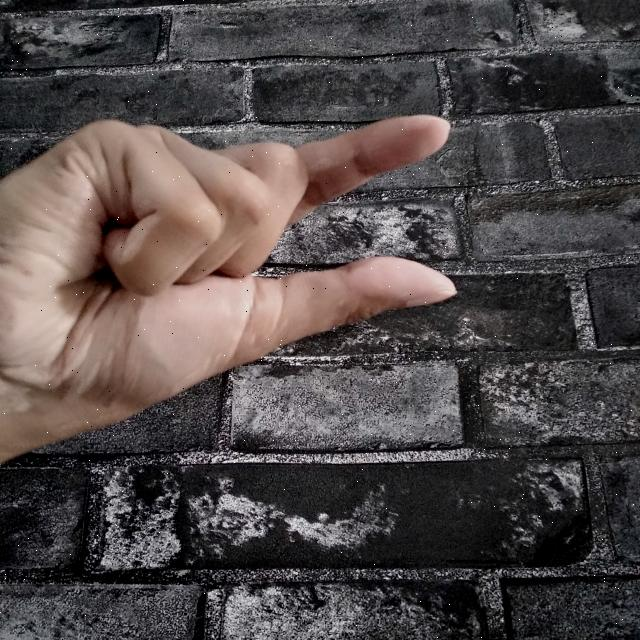G: (1, 112, 458, 468)
